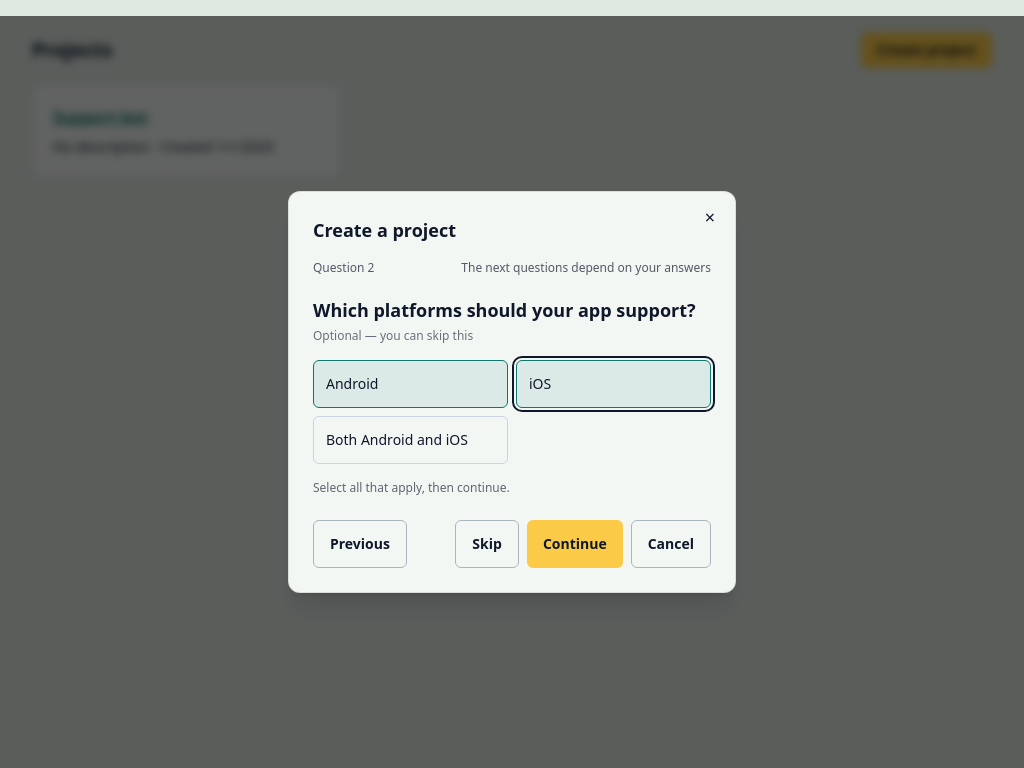
Test: projects › supports mobile multi-select, custom follow-ups, and editing from review
Earlier steps of the test are not shown.
Later steps or results of the test are not shown.
Click the button "Android". click: (410, 384)
box: [313,360,508,408]
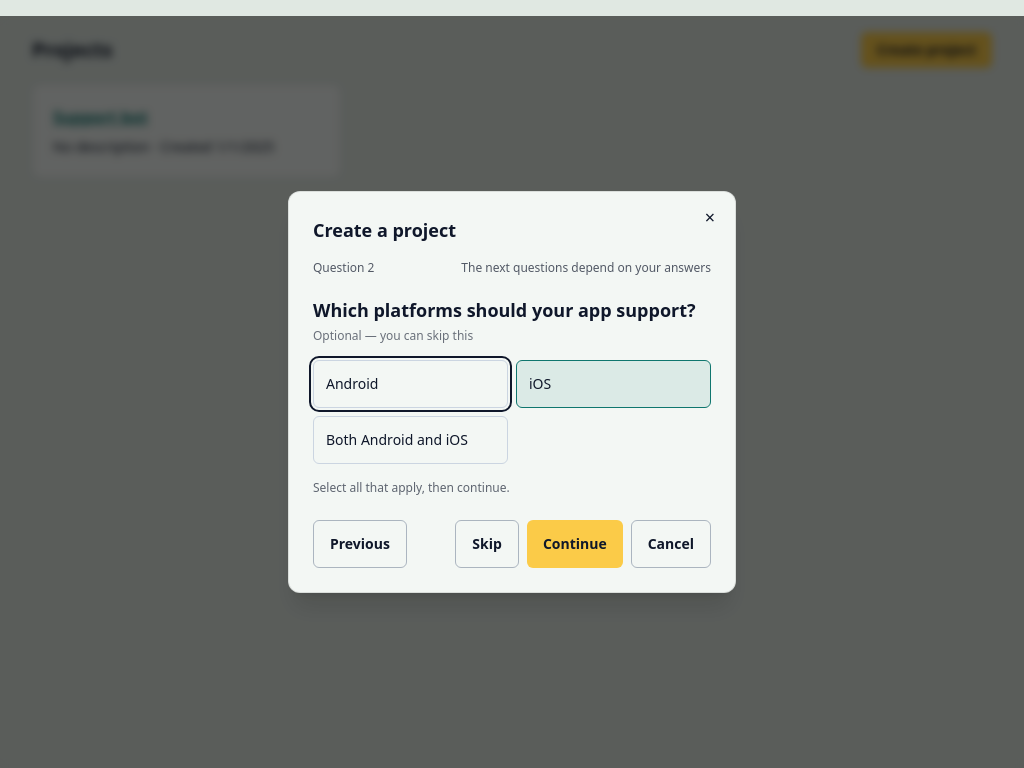
Click the button "Android". click: (410, 384)
box: [313,360,508,408]
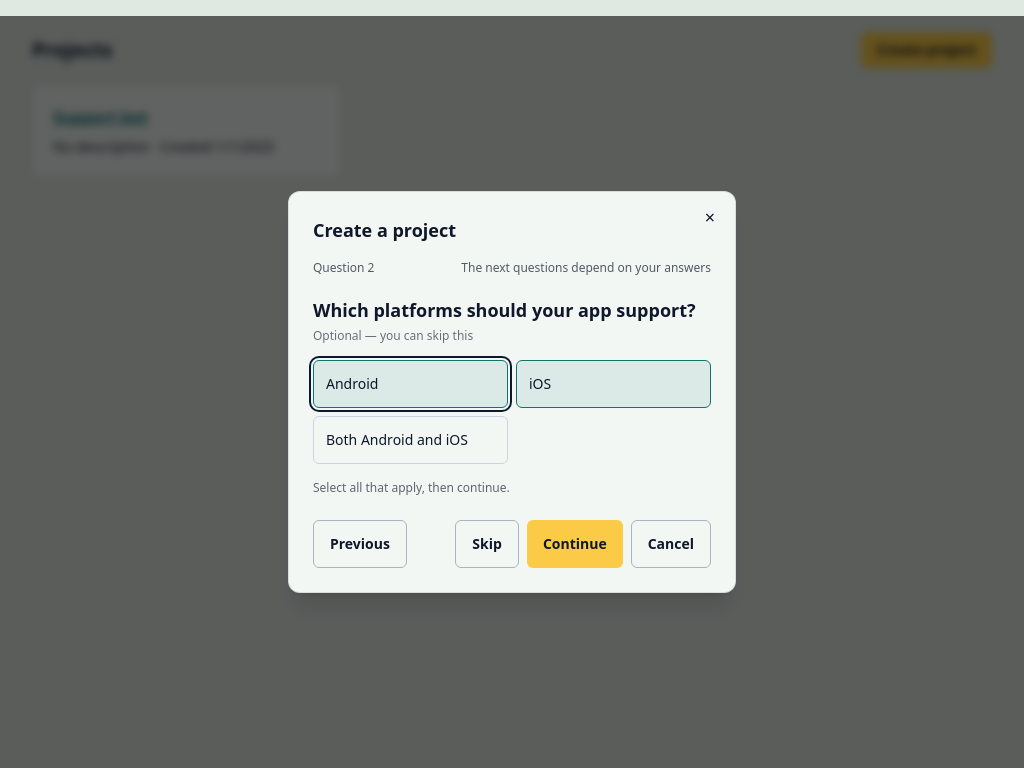
Check: the button "iOS" is pressed, box [516,360,711,408]
Click the button "Continue". click: (575, 544)
box: [527,520,623,568]
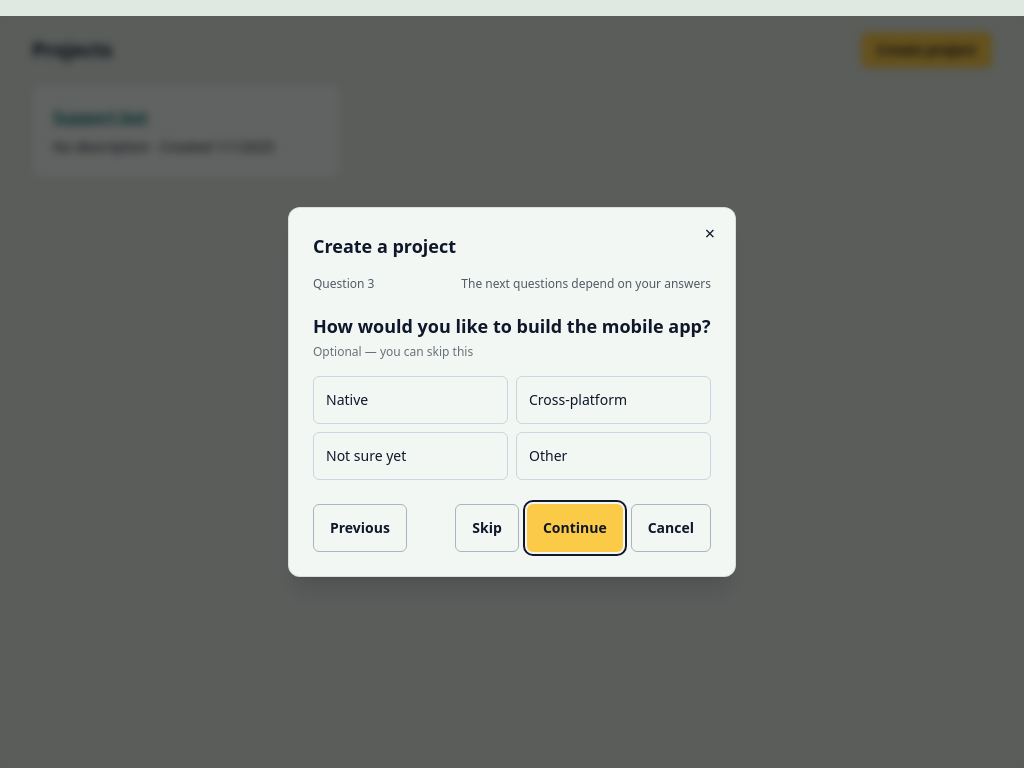
Click the button "Other". click: (614, 456)
box: [516,432,711,480]
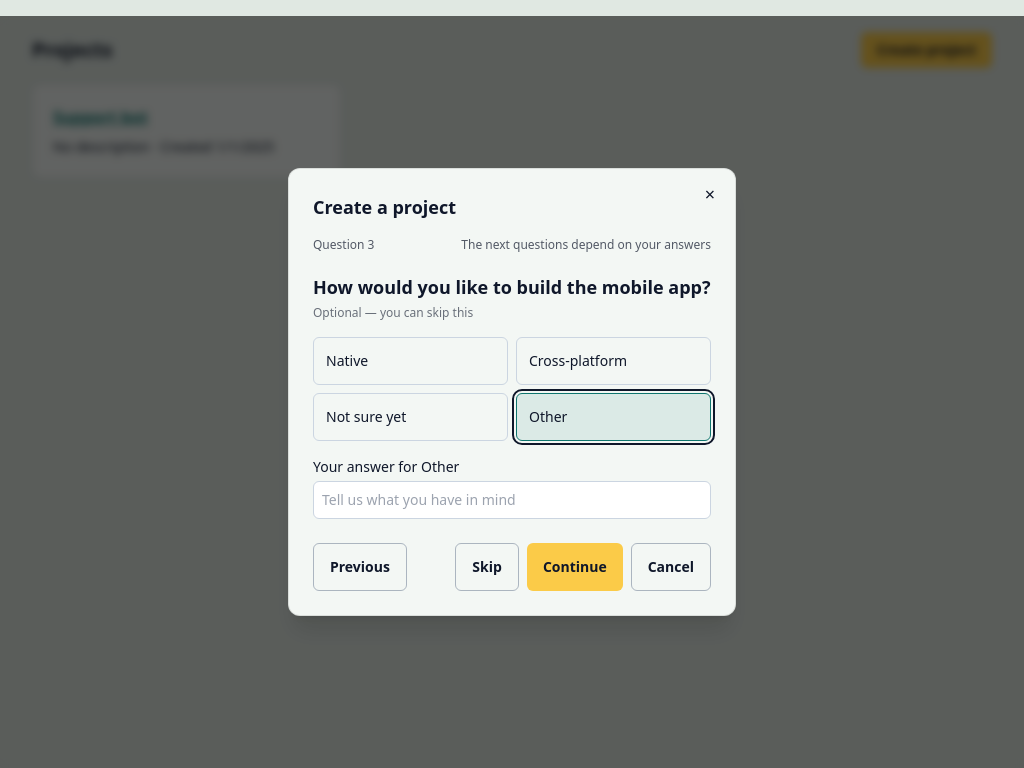
Type "Kotlin Multiplatform" into the field labelled "Your answer for Other". click: (512, 500)
box: [313,481,711,519]
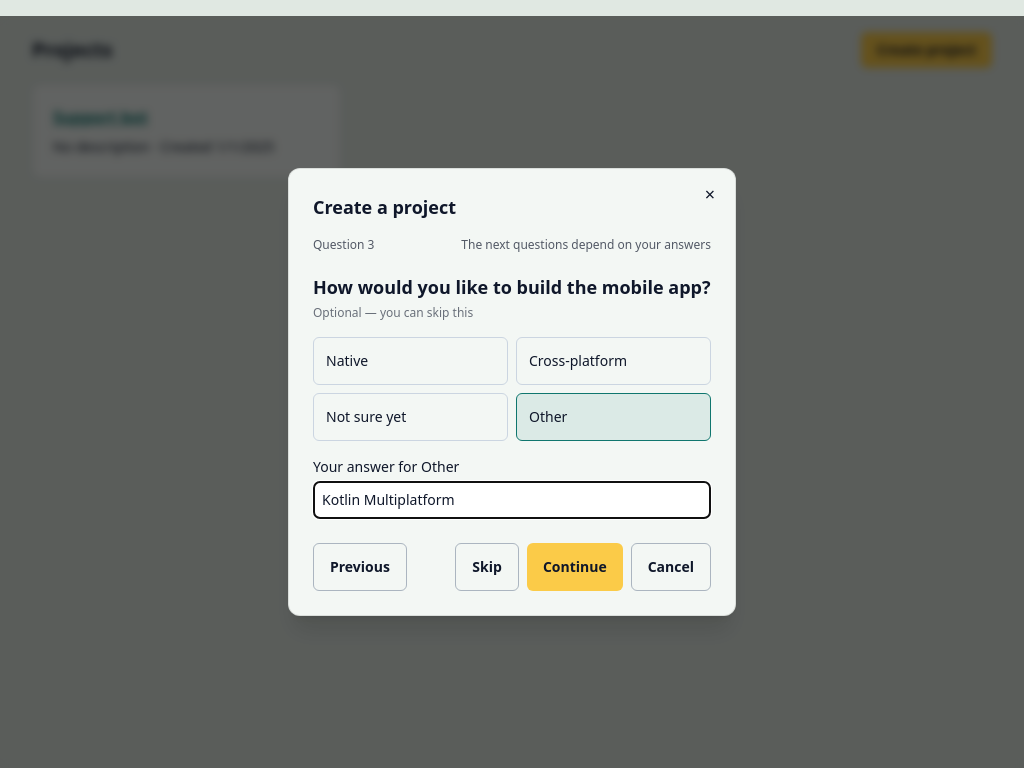
Click the button "Native". click: (410, 361)
box: [313,337,508,385]
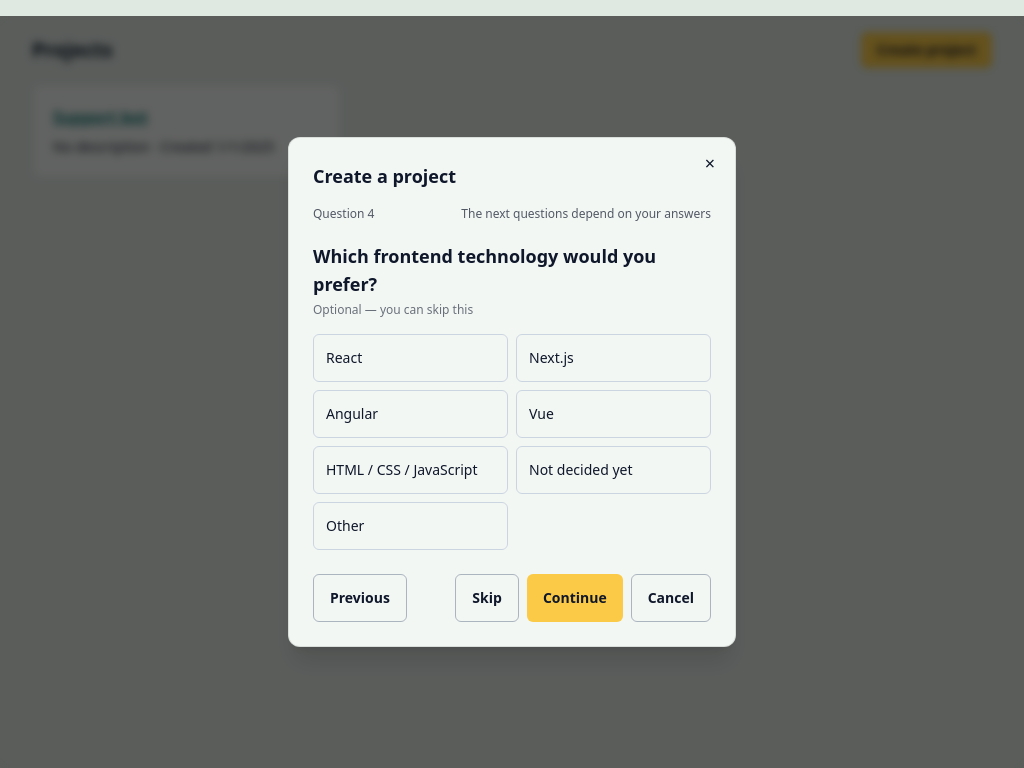
Check: the label labelled "Your answer for Other" is gone
